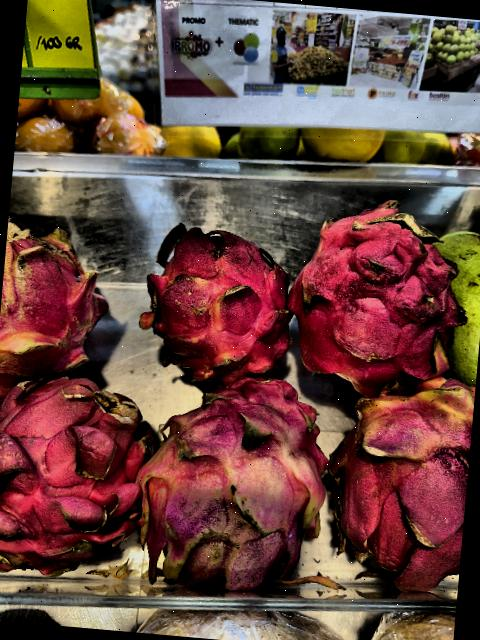buah-naga-belum-matang: (133, 368, 341, 590), (310, 367, 476, 599), (0, 206, 118, 385)
buah-naga-matang: (278, 180, 478, 394), (0, 368, 165, 588), (126, 210, 302, 389)
